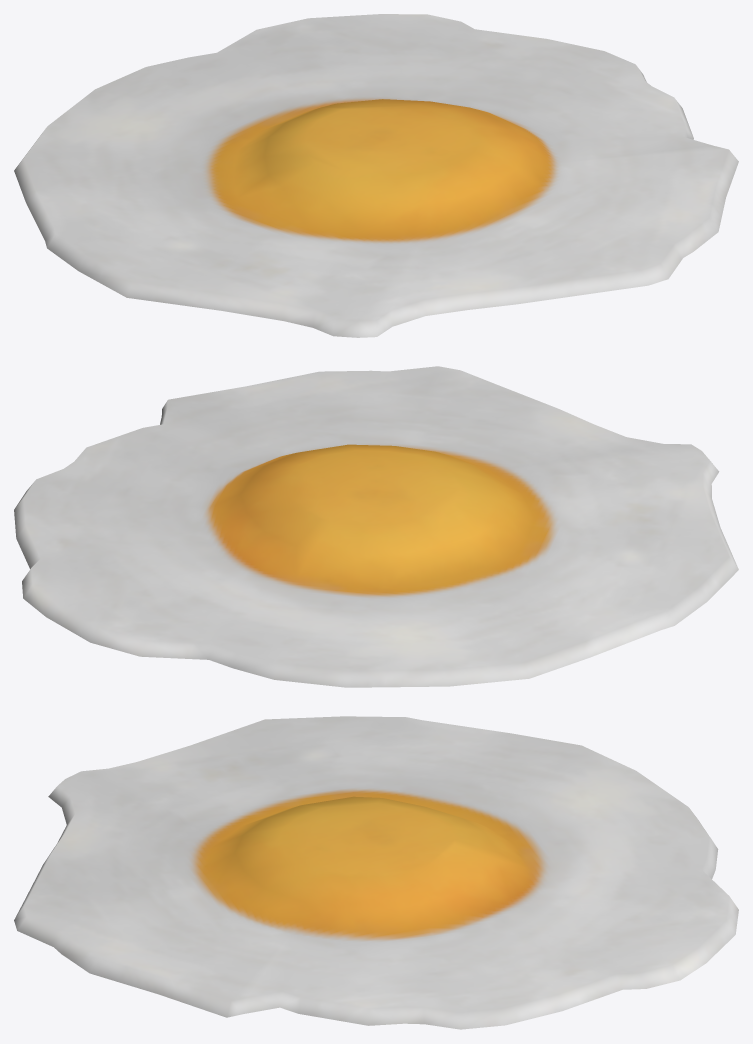
The model's file is SM_Food_SM_Egg.fbx.
3 views of the same model, one above another, from view 1: azimuth 30°, elevation 25°; view 2: azimuth 150°, elevation 25°; view 3: azimuth 270°, elevation 25° (orthographic).
Visible parts, largest first — view 1: SM_Food_SM_Egg_LOD0; view 2: SM_Food_SM_Egg_LOD0; view 3: SM_Food_SM_Egg_LOD0.
Boxes of the visible parts, left/top/right/bottom form: SM_Food_SM_Egg_LOD0: left=14, top=14, right=738, bottom=337; SM_Food_SM_Egg_LOD0: left=14, top=366, right=738, bottom=687; SM_Food_SM_Egg_LOD0: left=14, top=716, right=738, bottom=1029.
Size of the model in its own units: 16.52 by 16.5 by 1.19.
1 material, 1 textured.
